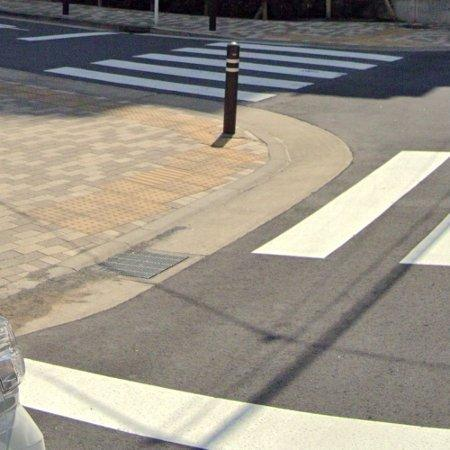crosswalks: (44, 35, 406, 105)
